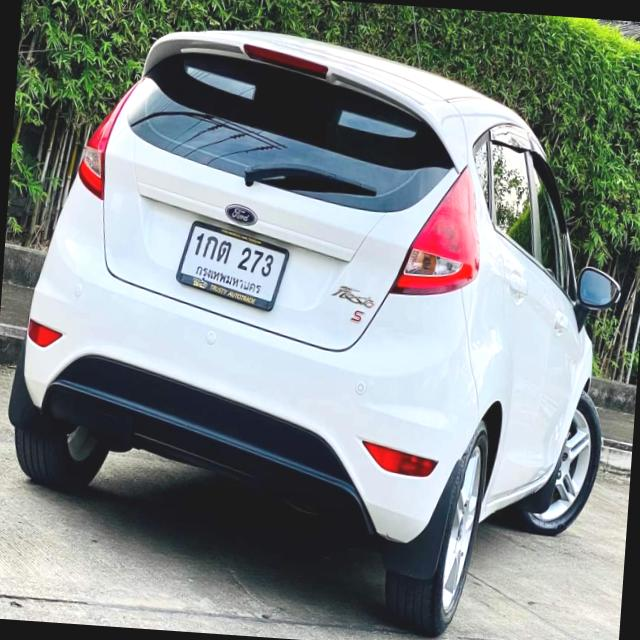license_plate: (170, 215, 292, 318)
